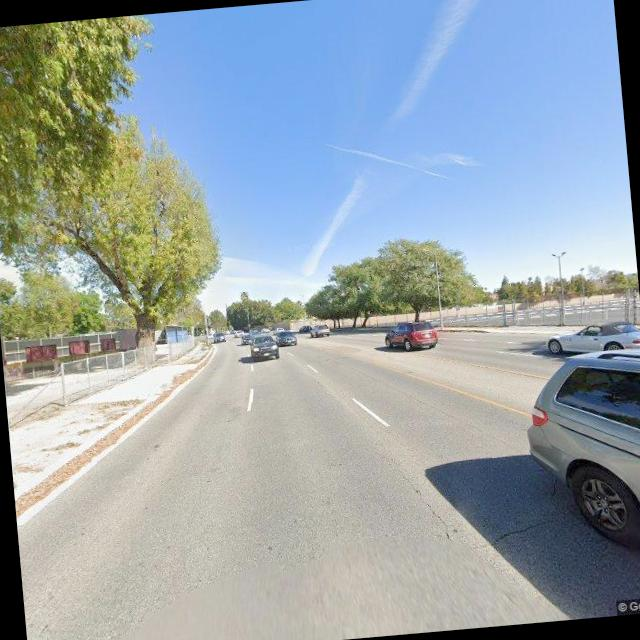crack: (380, 450, 453, 540), (466, 512, 567, 551)
